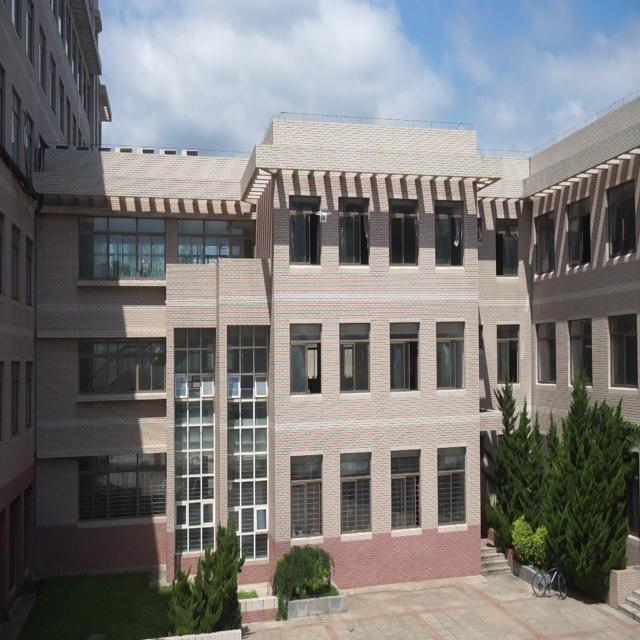drone: (314, 203, 329, 226)
